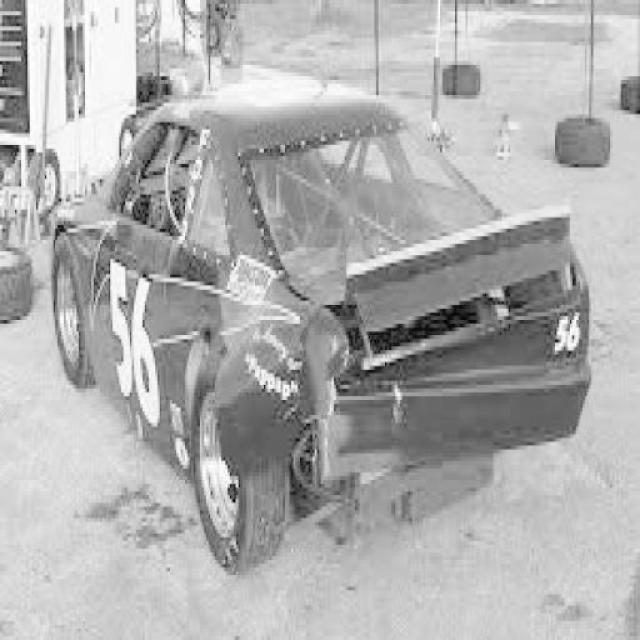car damage: (189, 297, 494, 538)
